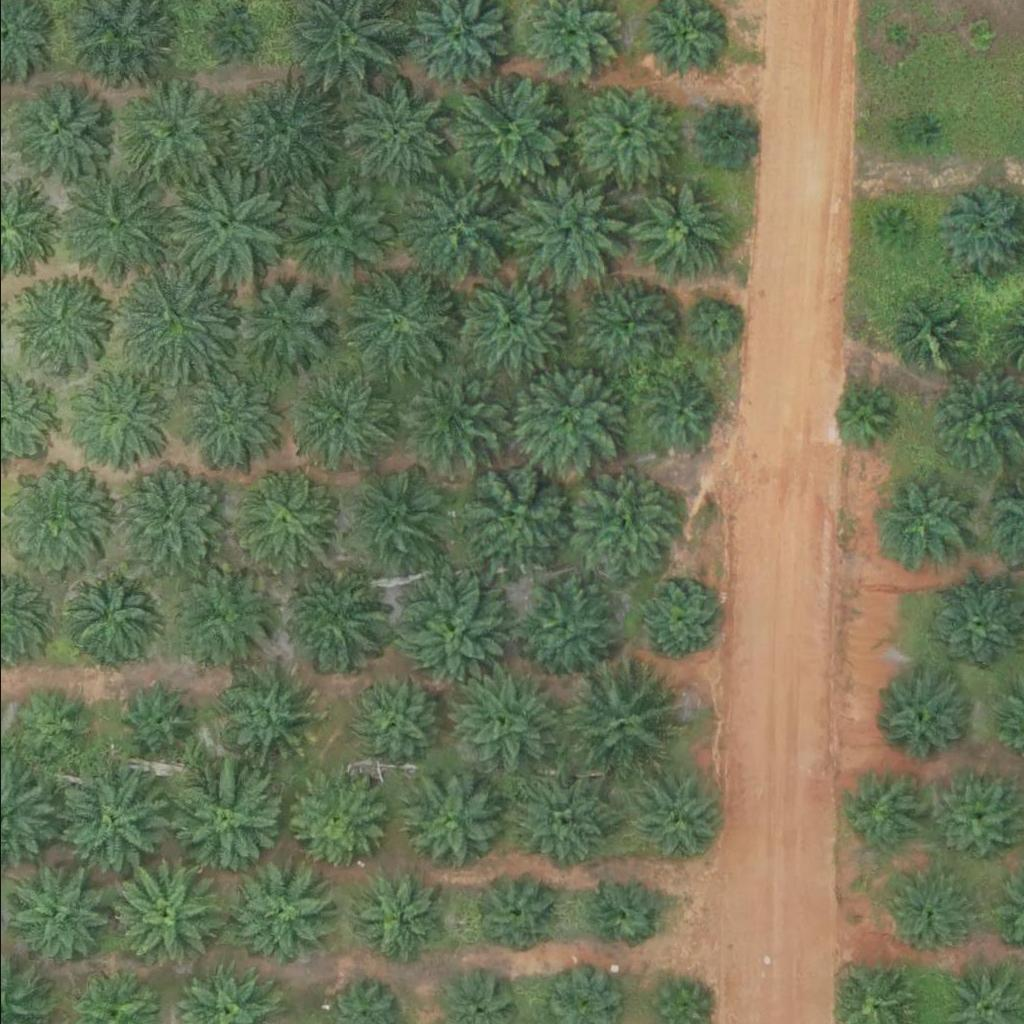Kelapa_Sawit: (445, 75, 571, 200), (216, 71, 342, 196), (396, 158, 522, 283), (165, 168, 291, 293), (334, 263, 460, 388), (109, 258, 235, 383), (561, 463, 687, 588), (450, 451, 576, 576), (103, 456, 229, 581), (386, 571, 512, 696), (560, 662, 686, 787), (437, 658, 563, 783), (161, 760, 287, 885), (48, 760, 174, 885), (101, 852, 227, 977), (51, 164, 177, 289), (443, 259, 568, 384), (509, 172, 622, 285), (277, 173, 390, 286), (221, 268, 334, 381), (167, 367, 280, 480), (59, 355, 172, 468), (113, 80, 227, 192), (340, 74, 453, 186), (506, 361, 619, 473), (394, 362, 507, 474), (872, 472, 973, 572), (575, 83, 676, 183), (627, 183, 728, 283), (573, 272, 674, 372), (339, 471, 440, 571), (238, 472, 339, 572), (283, 579, 384, 679), (178, 567, 279, 667), (215, 670, 316, 770), (61, 563, 162, 663), (7, 271, 108, 371), (873, 670, 973, 770), (515, 577, 615, 677), (623, 767, 723, 867), (507, 771, 607, 871), (400, 771, 500, 871), (283, 773, 383, 873), (227, 864, 327, 964), (8, 866, 108, 966), (6, 76, 106, 176), (883, 871, 971, 959), (296, 374, 384, 462), (349, 873, 437, 961), (470, 868, 558, 955), (836, 772, 924, 859), (345, 679, 433, 766), (642, 584, 718, 659), (582, 872, 658, 947), (12, 688, 87, 763), (889, 303, 964, 378), (640, 375, 715, 450), (115, 681, 190, 756), (828, 382, 891, 445), (193, 4, 256, 67), (690, 105, 753, 168), (686, 300, 736, 350), (877, 212, 915, 250), (967, 20, 992, 45), (883, 23, 908, 48), (915, 116, 940, 141)
